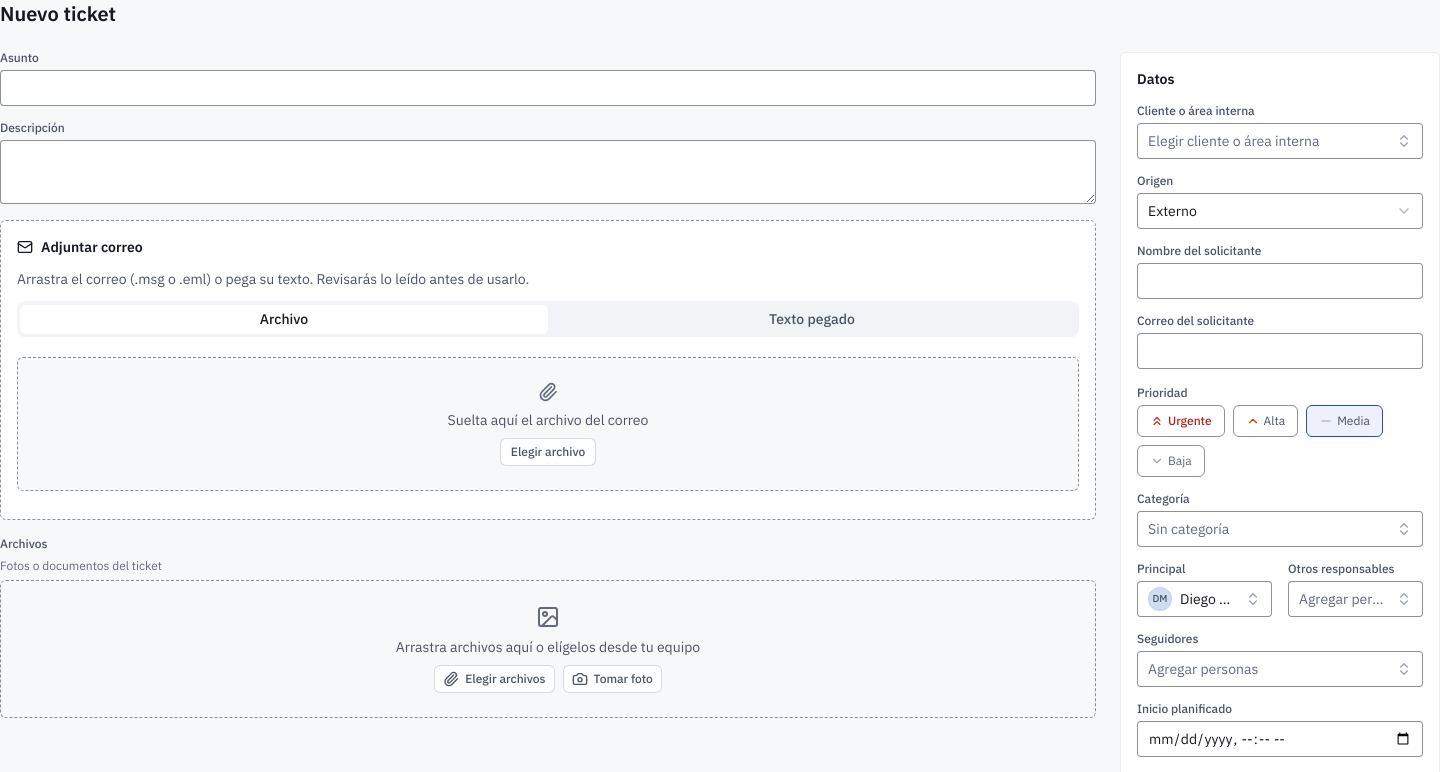
Test: la vista previa del plazo usa el departamento del principal
Click the dropdown labelled "Sin categoría" at (1189, 529), box [1137,511,1423,547]
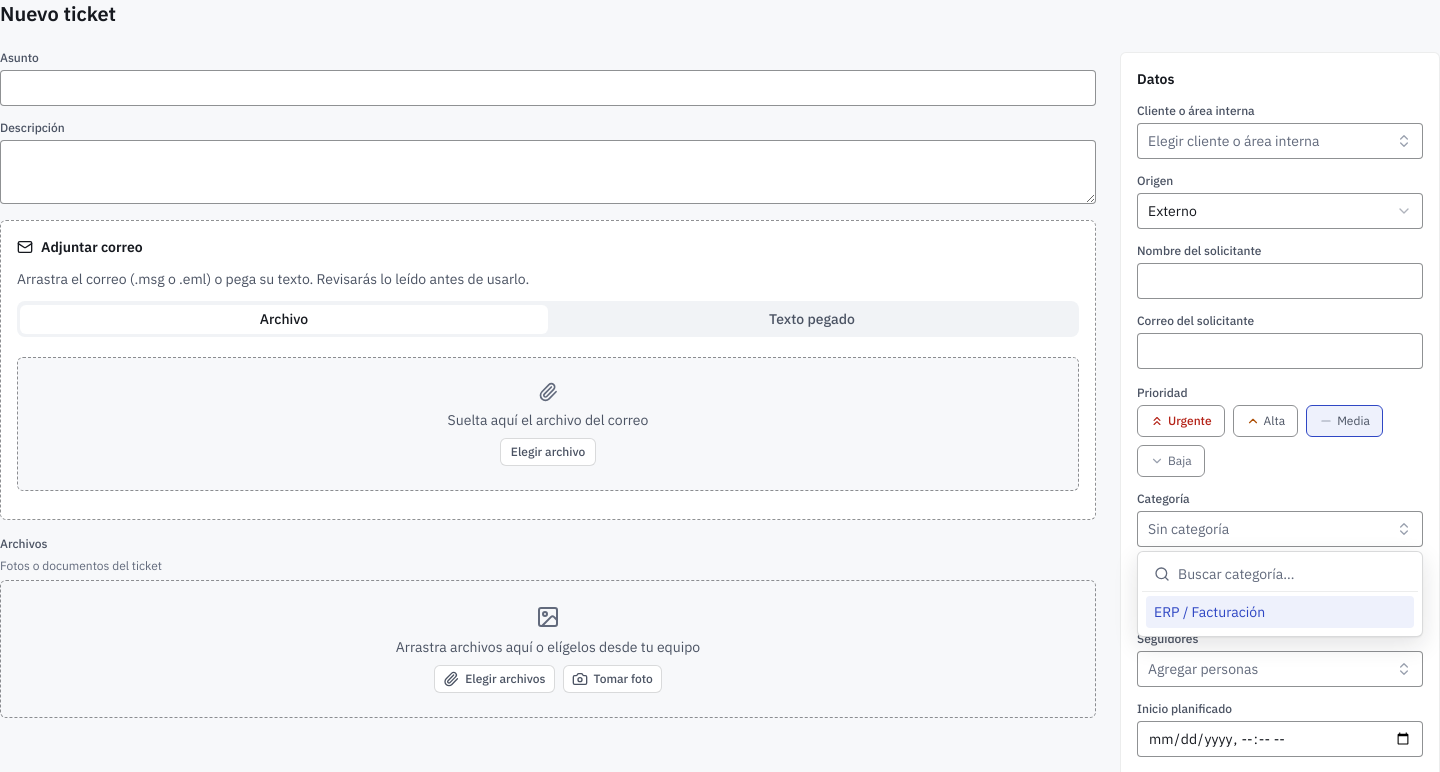
Click the option "ERP / Facturación" at (1210, 612), box [1146,596,1414,628]
(page scrolled)
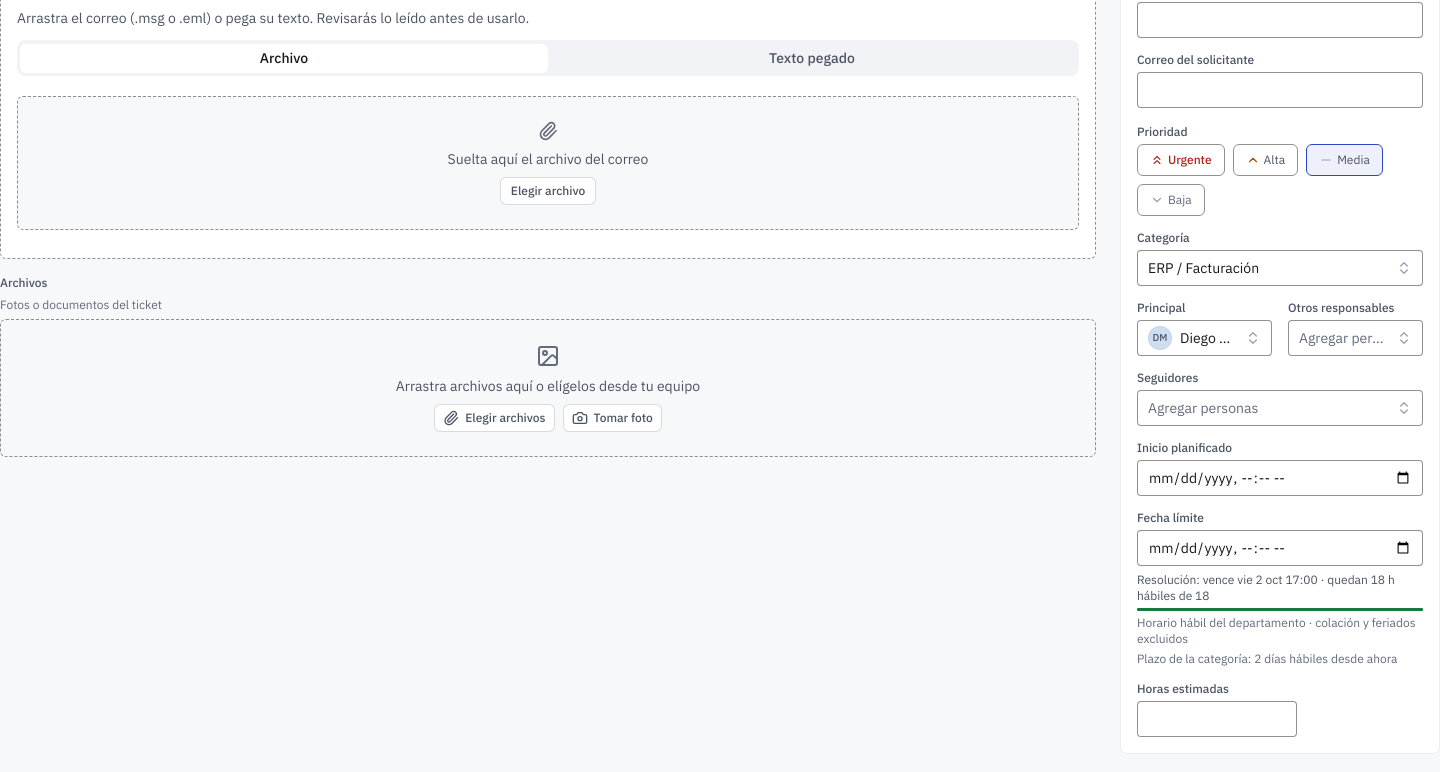
expect the text "Resolución: vence" is shown: met, box [1137,572,1395,603]
expect the text "Plazo de la categoría: 2 días hábiles desde ahora" is shown: met, box [1137,651,1423,667]
